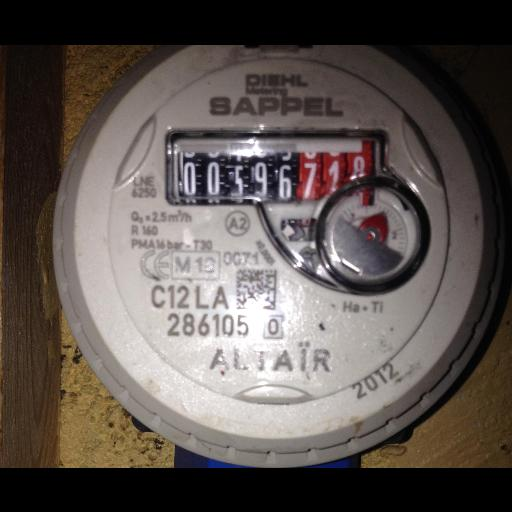0: (177, 152, 204, 201), (204, 151, 228, 200)
1: (321, 151, 347, 201)
5: (228, 150, 250, 198)
6: (274, 151, 297, 201)
7: (297, 151, 322, 202)
8: (346, 140, 372, 184)
9: (250, 151, 274, 200)
border_water_meter_number: (172, 138, 374, 205)
